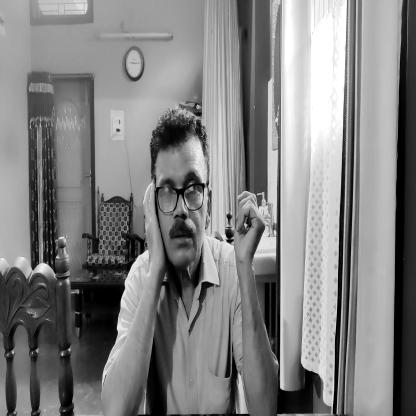Normal: (148, 106, 212, 268)
